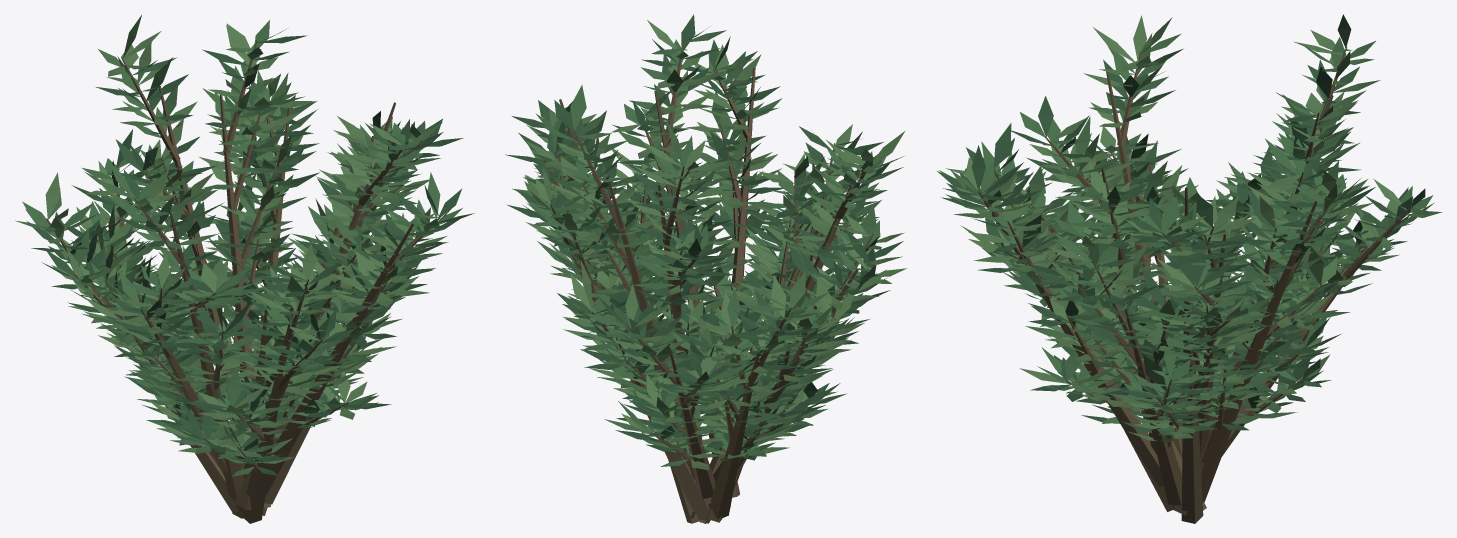
The model's file is bush_22.glb.
The picture shows the model from 3 angles, left to right: view 1: azimuth 30°, elevation 25°; view 2: azimuth 150°, elevation 25°; view 3: azimuth 270°, elevation 25°; orthographic projection. The views are drawn at different scales.
Visible parts, largest first — view 1: bush_22; view 2: bush_22; view 3: bush_22.
Boxes of the visible parts, box(x1,y1,x2,y2) form: bush_22: box(15, 15, 474, 523); bush_22: box(505, 14, 906, 523); bush_22: box(937, 14, 1442, 523).
Bounding box in the file's own units: 1.36 × 1.62 × 1.53.
